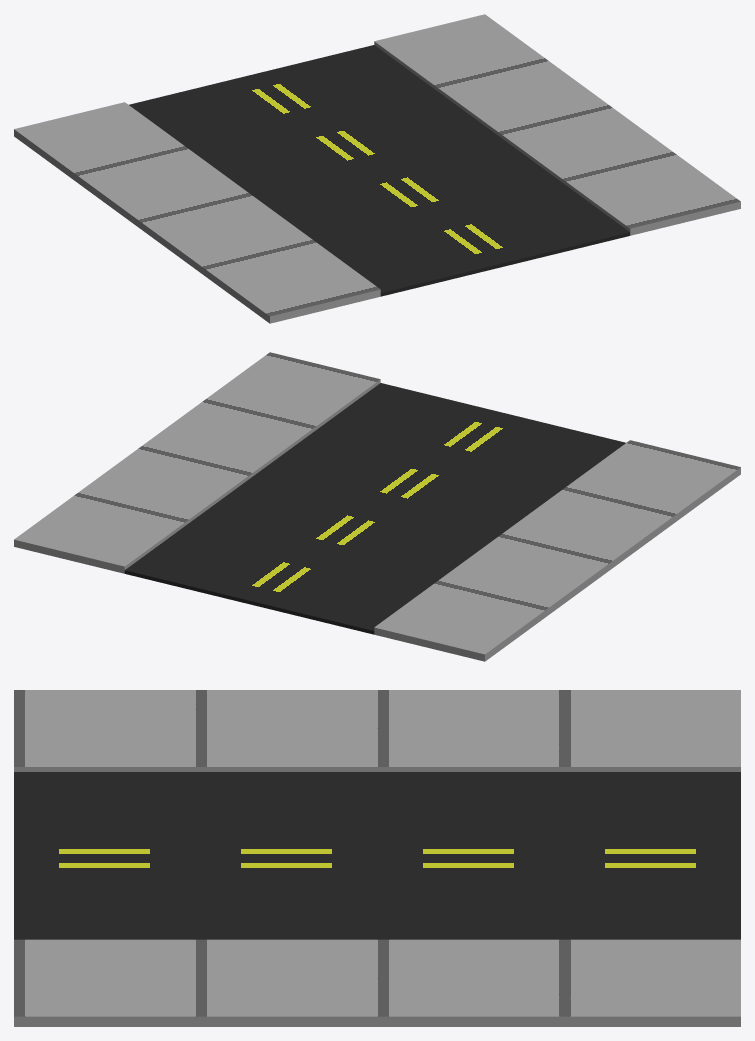
Rendered from road_straight.gltf.
3 renders of one model, top to bottom at view 1: azimuth 30°, elevation 25°; view 2: azimuth 150°, elevation 25°; view 3: azimuth 270°, elevation 25°, orthographic. The views are drawn at different scales.
Visible parts, largest first — view 1: cuboid; view 2: cuboid; view 3: cuboid.
Part boxes in pixels (x1,y1,x2,y2): cuboid: (14, 14, 740, 323); cuboid: (14, 352, 740, 661); cuboid: (14, 690, 740, 1026).
Size of the model in its own units: 4.25 by 0.0625 by 4.
Materials: 1 (1 with a texture image).
